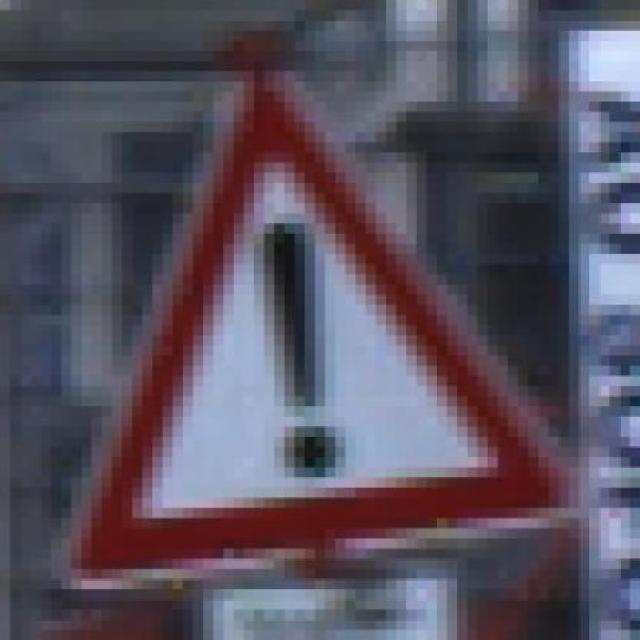Attention Please-: (51, 51, 609, 589)
